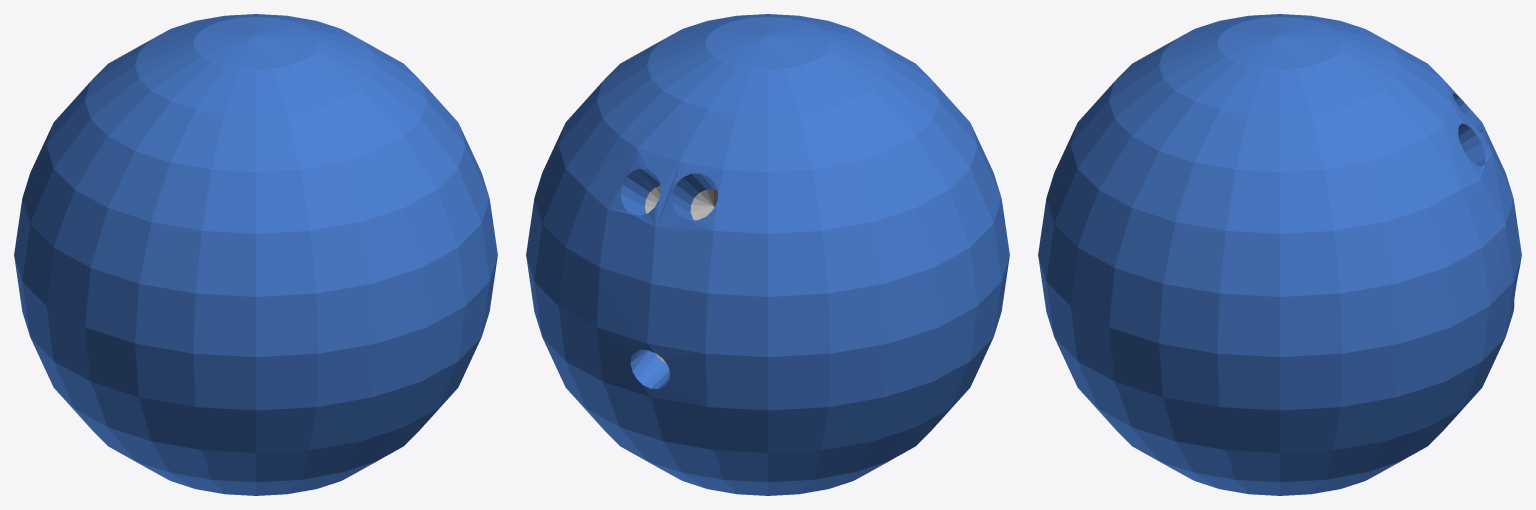
File: BowlingBall.dae
3 renders of one model, left to right at view 1: azimuth 30°, elevation 25°; view 2: azimuth 150°, elevation 25°; view 3: azimuth 270°, elevation 25°, orthographic.
Visible parts, largest first — view 1: Sphere; view 2: Sphere; view 3: Sphere.
Part boxes in pixels (x1,y1,x2,y2): Sphere: (14, 14, 497, 495); Sphere: (526, 14, 1009, 495); Sphere: (1038, 14, 1521, 495).
Size of the model in its own units: 2 by 2 by 2.
